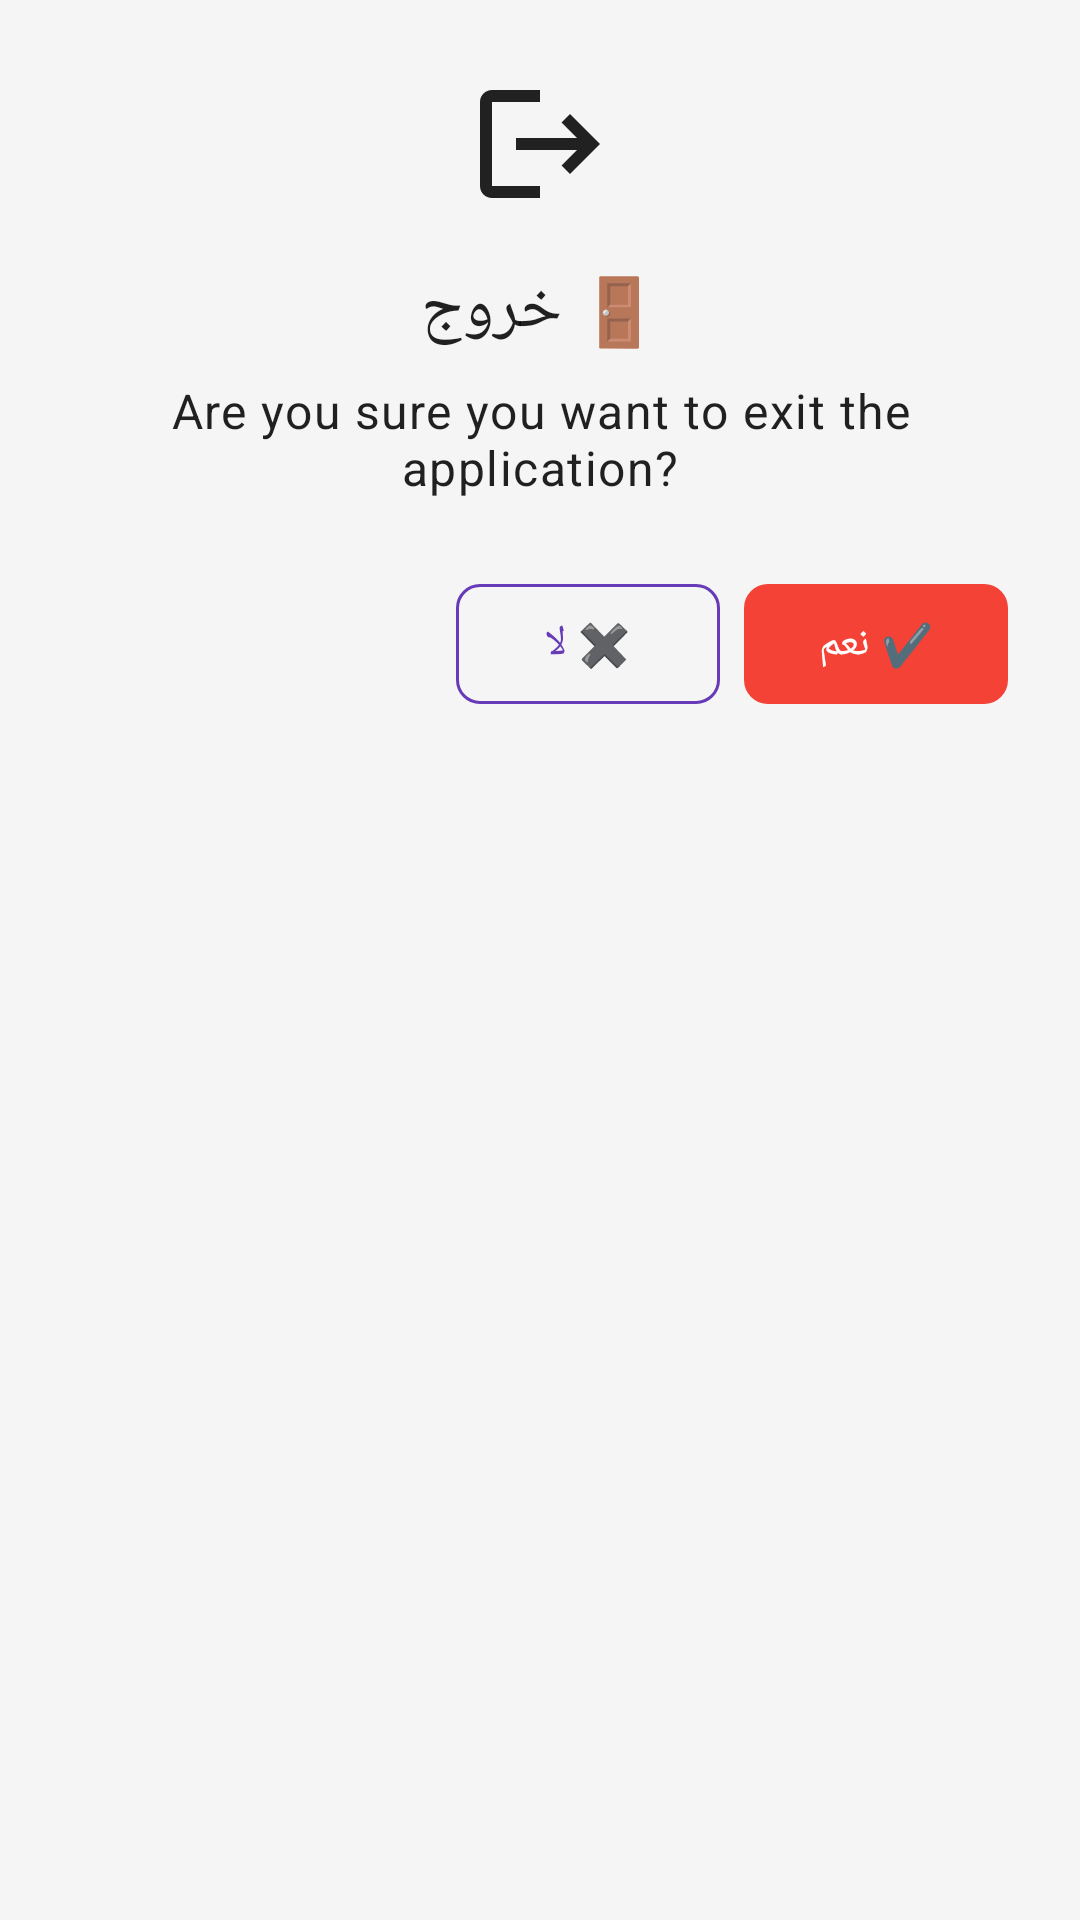

Screen size 1080px×1920px. Icon name, then its center in pixels as (x,y):
exit: (540,144)
